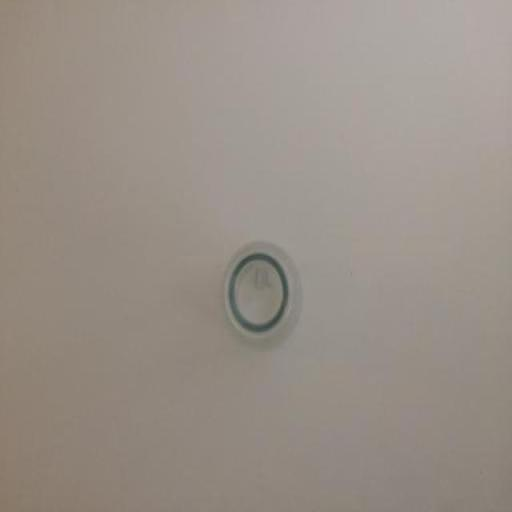glass: (211, 223, 308, 368)
